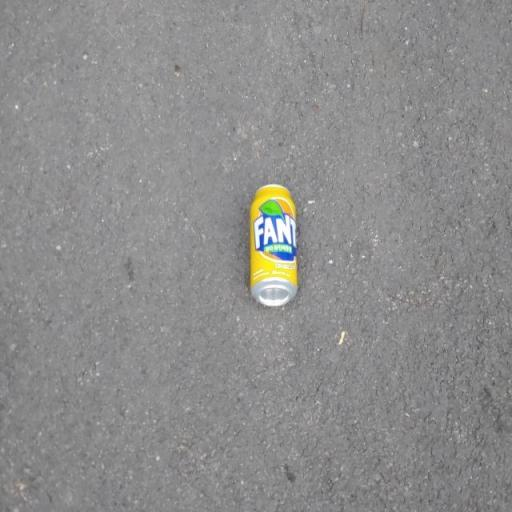metal: (228, 167, 318, 322)
